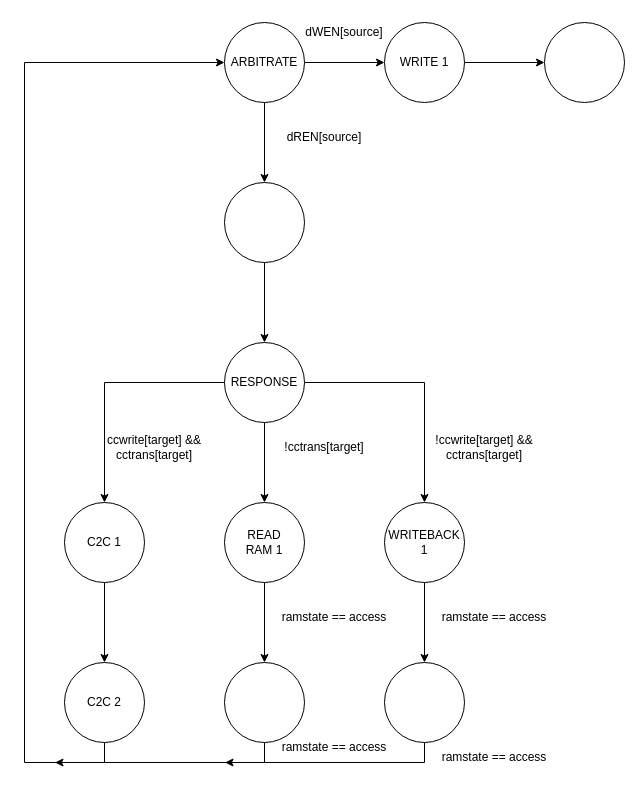
Image size: 642x789. Some labels were removed from this diagram. Each missing label, with the centre of its shape:
READ RAM 2: the point at 264,702
SNOOP: the point at 264,222
WRITE 2: the point at 584,62
WRITEBACK 2: the point at 424,702
